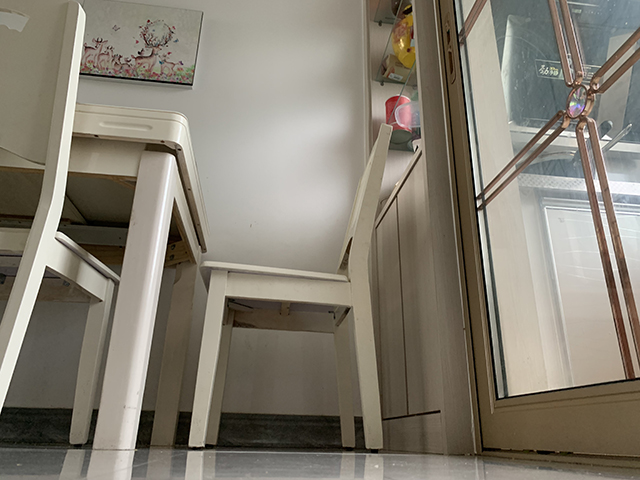cabinet: (361, 1, 475, 457)
stool: (185, 121, 394, 455), (1, 1, 131, 449)
table: (1, 97, 212, 452)
